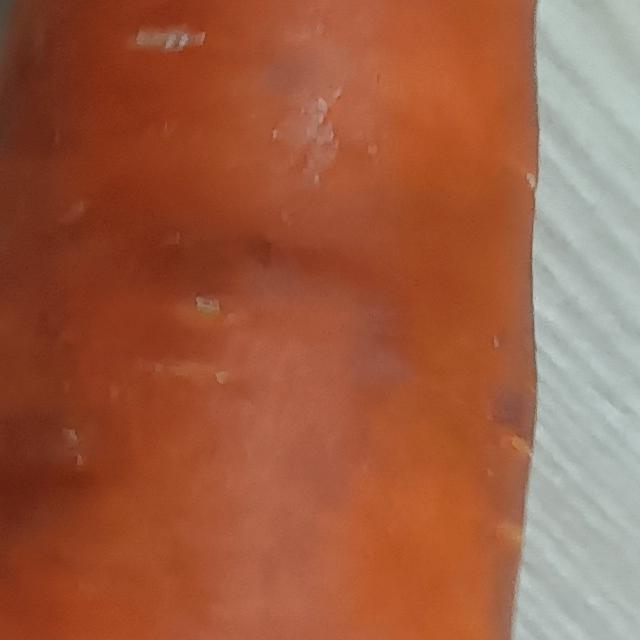carrot: (1, 1, 574, 640)
